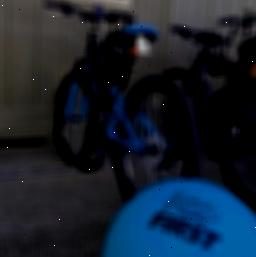algae: (106, 179, 256, 257)
